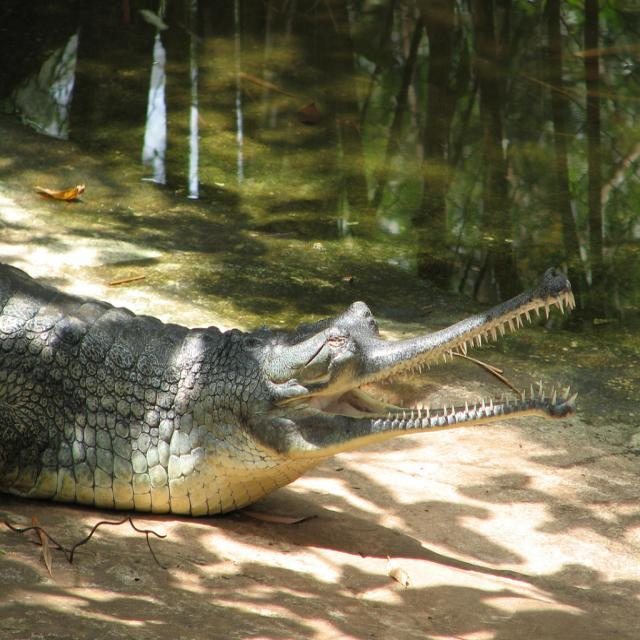crocodile: (0, 236, 608, 594)
